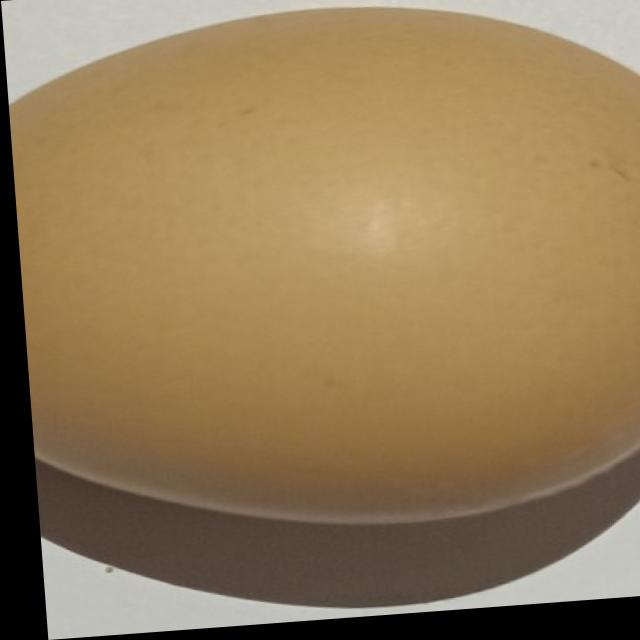fresh: (2, 0, 640, 550)
